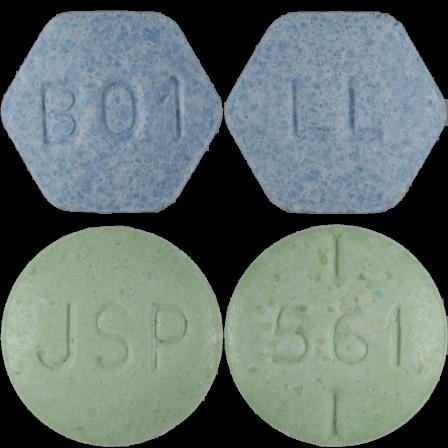61919-970: (0, 0, 224, 224)
